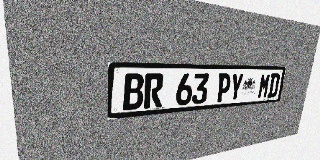3: (191, 73, 209, 104)
6: (175, 73, 194, 106)
B: (123, 73, 144, 110)
D: (267, 73, 280, 98)
M: (257, 73, 271, 99)
P: (215, 73, 232, 102)
R: (144, 73, 164, 109)
Y: (228, 73, 244, 101)
